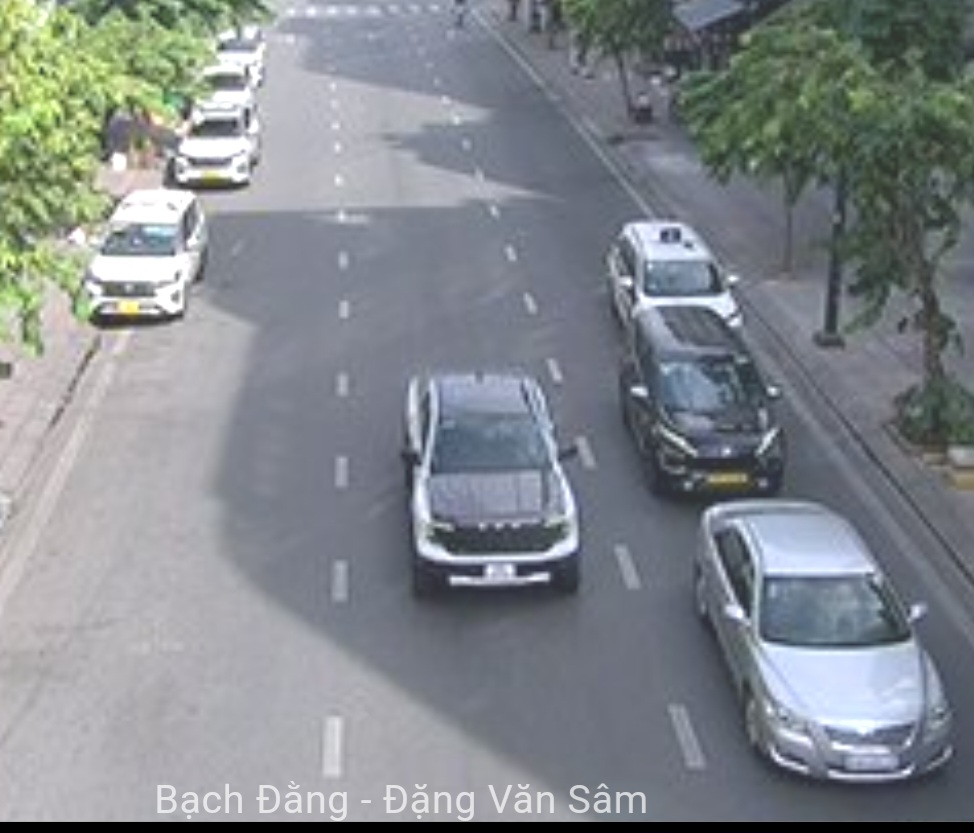car: (687, 508, 957, 785), (399, 370, 584, 609), (613, 324, 790, 509), (84, 189, 212, 327), (604, 220, 744, 329), (168, 100, 263, 189)
